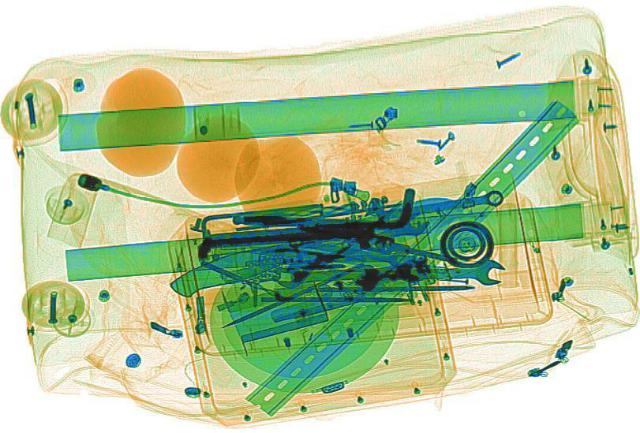Knife: (157, 191, 477, 300)
Wrench: (272, 258, 506, 288)
